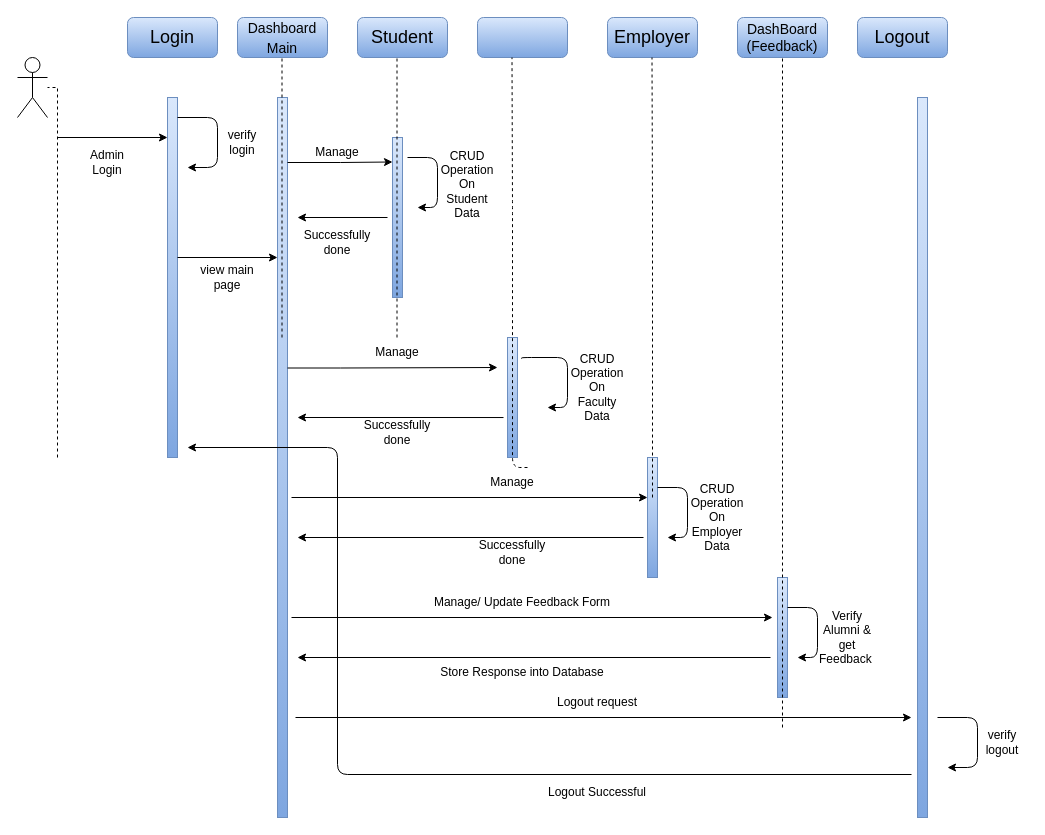
The diagram is 1045 pixels wide and 835 high, and some of its shapes have lost their labels. Each missing label, with the centre of its shape:
"Actor" goes at pixel 32 87.
"Faculty" goes at pixel 522 37.
